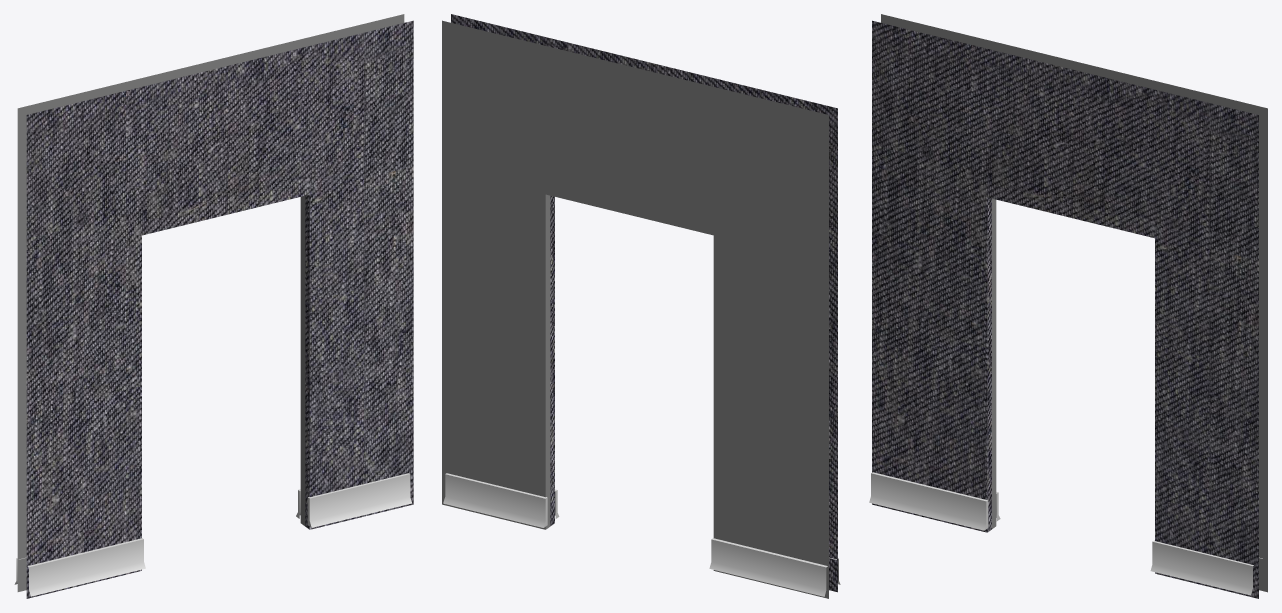
File: FLAT_wall_06.FBX
3 views of the same model, side by side, from view 1: azimuth 30°, elevation 25°; view 2: azimuth 150°, elevation 25°; view 3: azimuth 330°, elevation 25° (orthographic).
Parts seen in each view (by area): view 1: FLAT_wall_06, FLAT_wall_06_plinthe; view 2: FLAT_wall_06, FLAT_wall_06_plinthe; view 3: FLAT_wall_06, FLAT_wall_06_plinthe.
Boxes of the visible parts, left/top/right/bottom form: FLAT_wall_06: left=17, top=14, right=413, bottom=598; FLAT_wall_06_plinthe: left=14, top=473, right=411, bottom=596; FLAT_wall_06: left=442, top=14, right=837, bottom=598; FLAT_wall_06_plinthe: left=443, top=473, right=840, bottom=596; FLAT_wall_06: left=872, top=14, right=1267, bottom=598; FLAT_wall_06_plinthe: left=869, top=472, right=1262, bottom=595.
Size of the model in its own units: 352 by 421 by 25.76.
2 materials, 1 textured.
